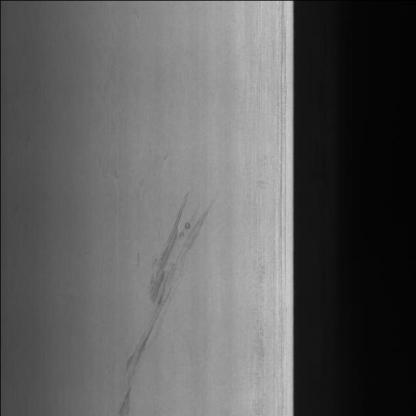water_spot: (99, 175, 216, 416)
